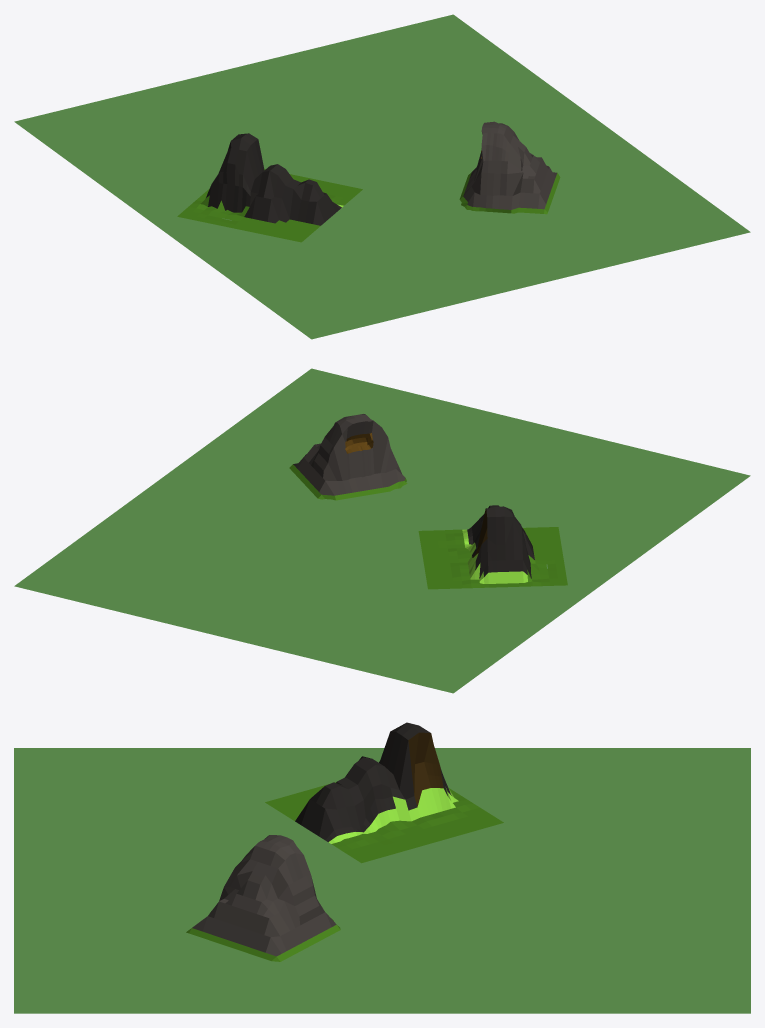
File: DuasPedras.fbx
3 renders of one model, top to bottom at view 1: azimuth 30°, elevation 25°; view 2: azimuth 150°, elevation 25°; view 3: azimuth 270°, elevation 25°, orthographic. The views are drawn at different scales.
Visible parts, largest first — view 1: Plane.001, Plane, Plane.002; view 2: Plane.001, Plane, Plane.002; view 3: Plane.001, Plane, Plane.002.
Part boxes in pixels (<box>): Plane.001: <box>14,14,750,339</box>; Plane: <box>177,133,362,242</box>; Plane.002: <box>459,121,560,214</box>; Plane.001: <box>14,368,750,693</box>; Plane: <box>418,505,567,589</box>; Plane.002: <box>289,414,407,500</box>; Plane.001: <box>14,748,750,1013</box>; Plane: <box>265,722,503,863</box>; Plane.002: <box>186,835,340,961</box>.
Bounding box in the file's own units: 9772 × 1455 × 11460.
